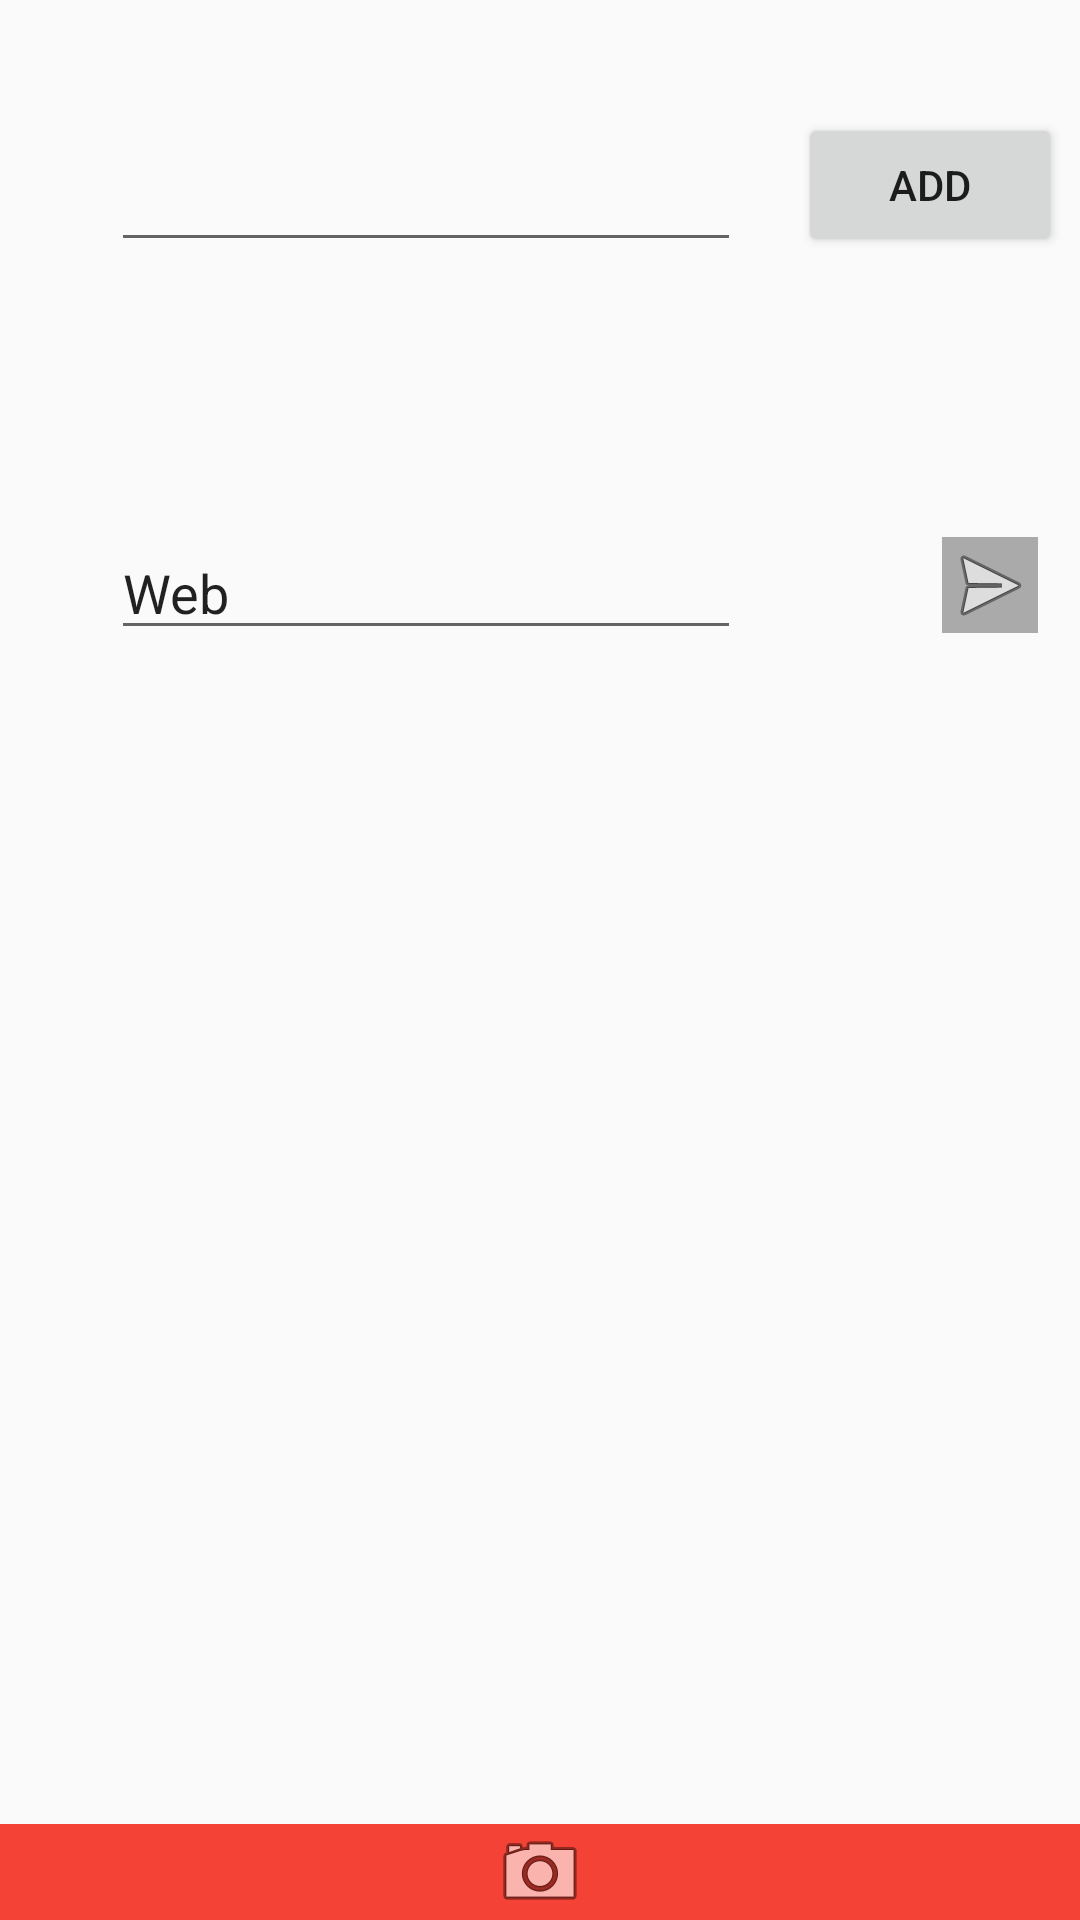

Screen size 1080×1920. Icon name, then its center in pixels as (x=x, y=y):
send: (x=990, y=585)
